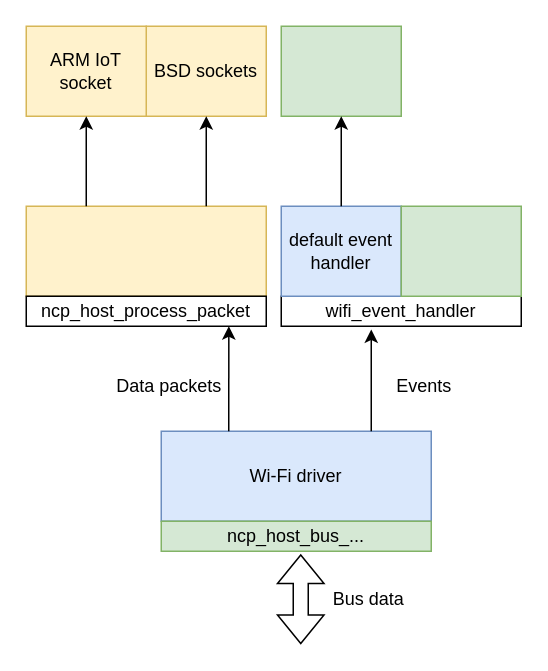
The diagram is 548 pixels wide and 671 high, and some of its shapes have lost their labels. Each missing label, with the centre of its shape:
"TCP/IP stack" goes at point 145,250.
"User callbacks" goes at point 340,70.
"wifi_init() argument" goes at point 460,250.
